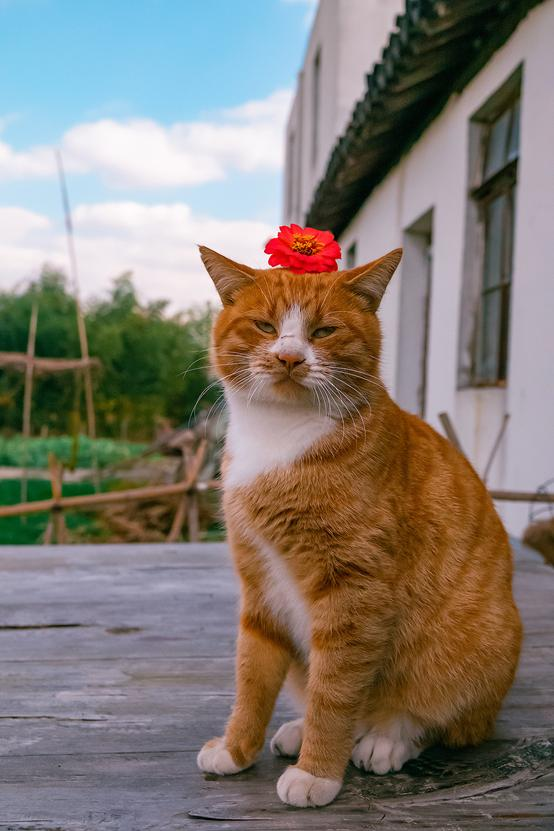橘猫: (201, 247, 519, 765)
